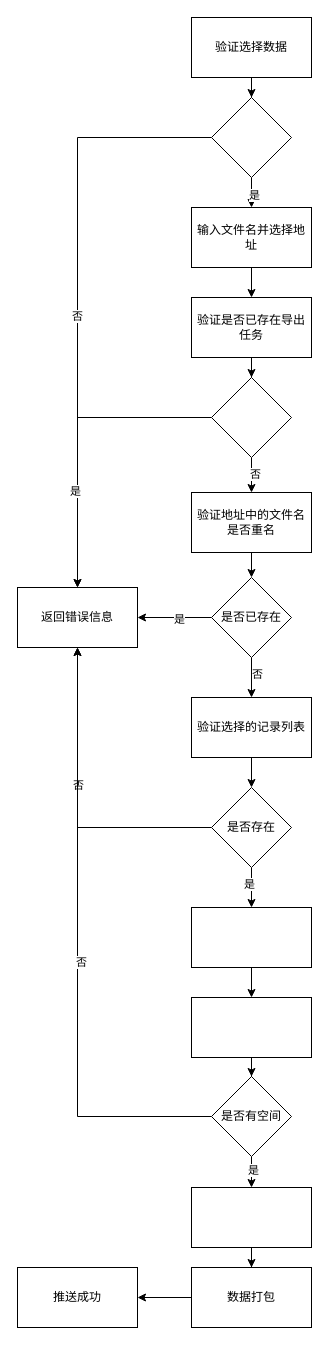
Image size: 329x1345. Some labels were removed from this diagram. The box of each missing label's shape, as (x1, y1, x2, y2) in pixels:
启动任务: (190, 1186, 312, 1248)
是否存在任务: (210, 376, 292, 458)
是否选择: (210, 96, 292, 178)
统计文件大小: (190, 906, 312, 968)
验证磁盘空间: (190, 996, 312, 1058)
